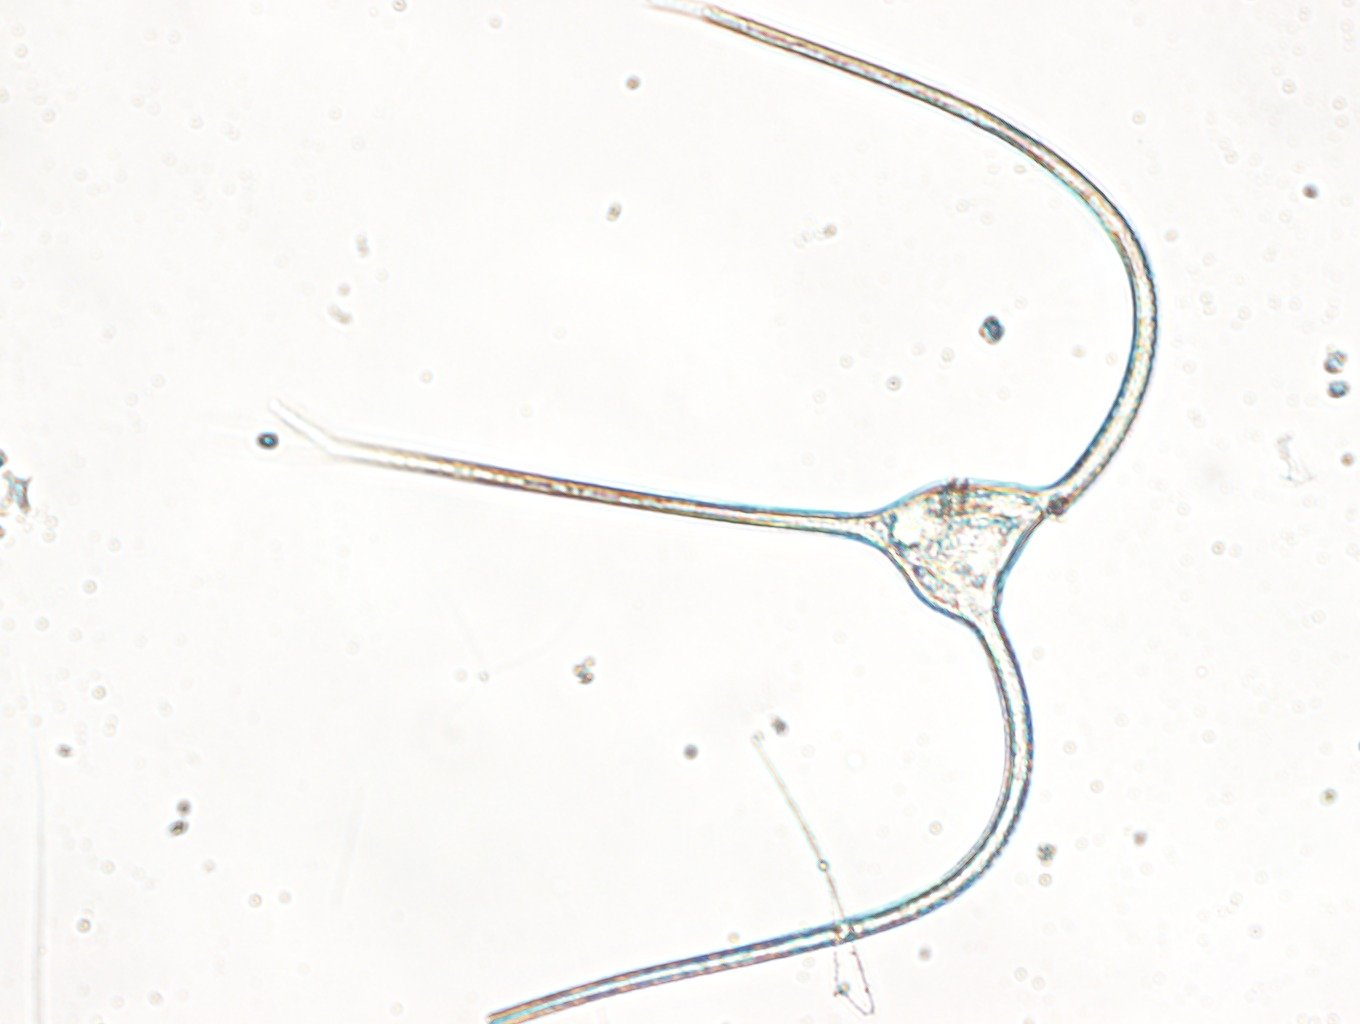ceratium trichoceros: (272, 1, 1158, 1024)
